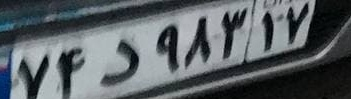character: (97, 38, 143, 87), (54, 45, 89, 99), (183, 14, 215, 70), (218, 4, 248, 62), (152, 23, 183, 79), (17, 52, 52, 99), (283, 1, 311, 48), (259, 8, 278, 54)
